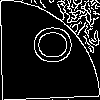O: (25, 24, 72, 65)
